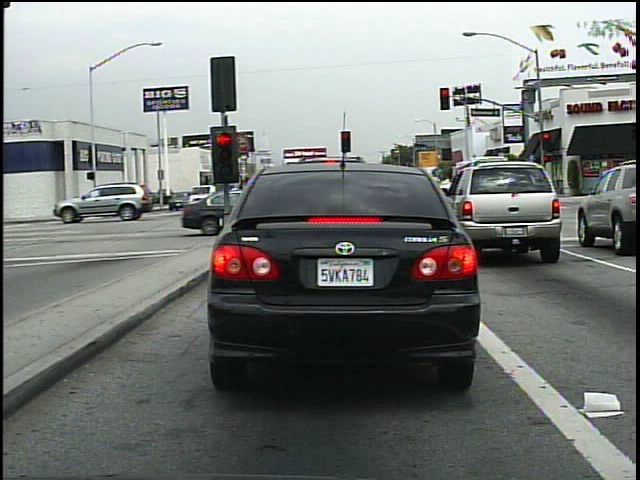person: (204, 177, 226, 216)
